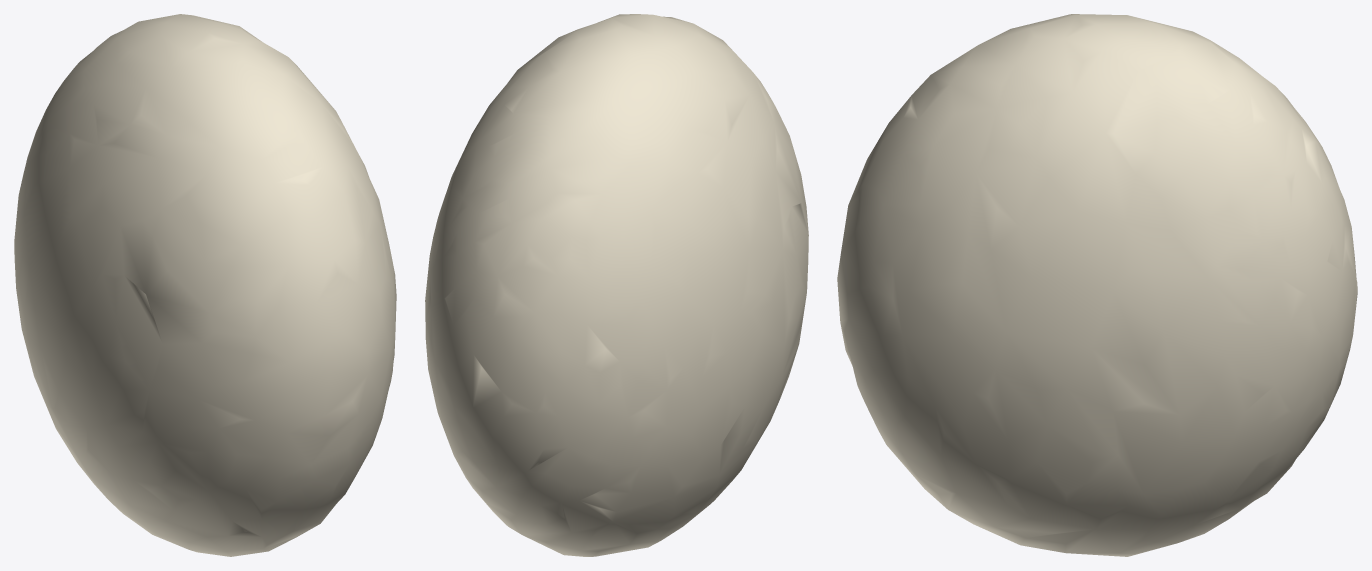
The model's file is patella_r.glb.
3 renders of one model, left to right at view 1: azimuth 30°, elevation 25°; view 2: azimuth 150°, elevation 25°; view 3: azimuth 270°, elevation 25°, orthographic. The views are drawn at different scales.
Visible parts, largest first — view 1: geometry_0; view 2: geometry_0; view 3: geometry_0.
Boxes of the visible parts, left/top/right/bottom form: geometry_0: left=14, top=14, right=396, bottom=556; geometry_0: left=425, top=14, right=808, bottom=556; geometry_0: left=837, top=14, right=1357, bottom=556.
Size of the model in its own units: 0.0606 by 0.1004 by 0.0902.
